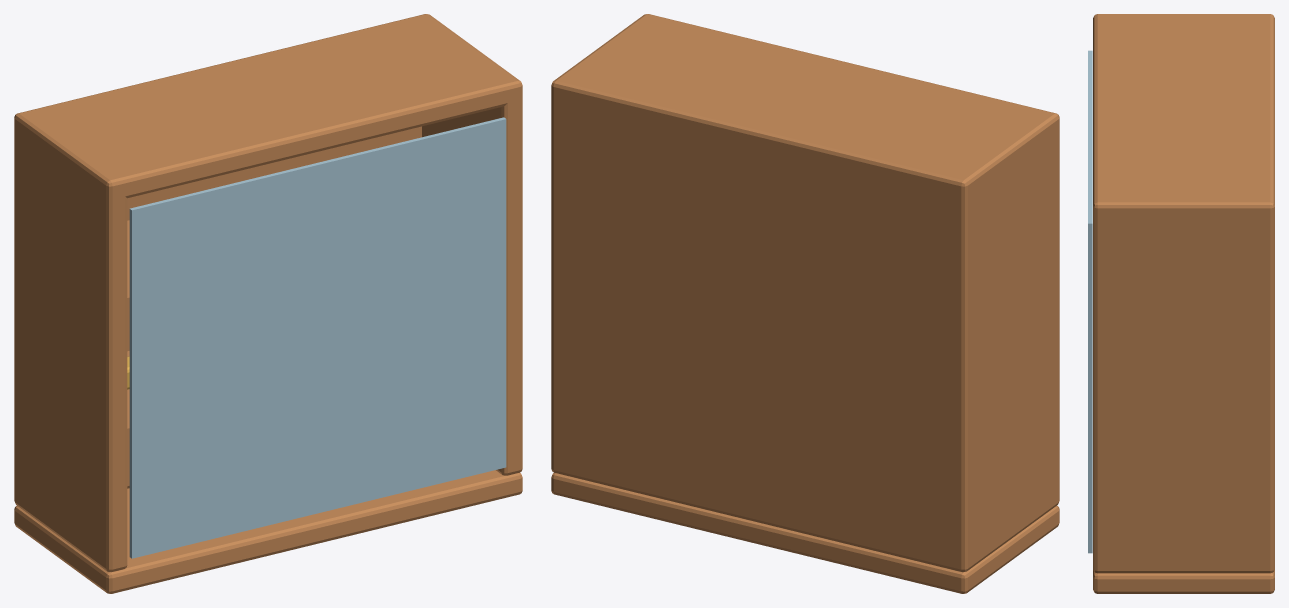
The model's file is display_case.glb.
The picture shows the model from 3 angles, left to right: view 1: azimuth 30°, elevation 25°; view 2: azimuth 150°, elevation 25°; view 3: azimuth 270°, elevation 25°; orthographic projection. The views are drawn at different scales.
Parts seen in each view (by area): view 1: display_case; view 2: display_case; view 3: display_case.
Boxes of the visible parts, <box> form: display_case: <box>14,14,522,593</box>; display_case: <box>551,14,1059,593</box>; display_case: <box>1088,14,1274,593</box>.
Size of the model in its own units: 1 by 0.95 by 0.411.
